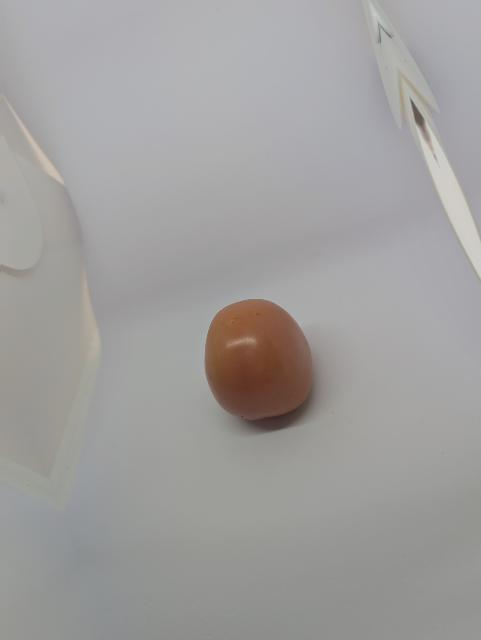turning: (191, 299, 323, 425)
